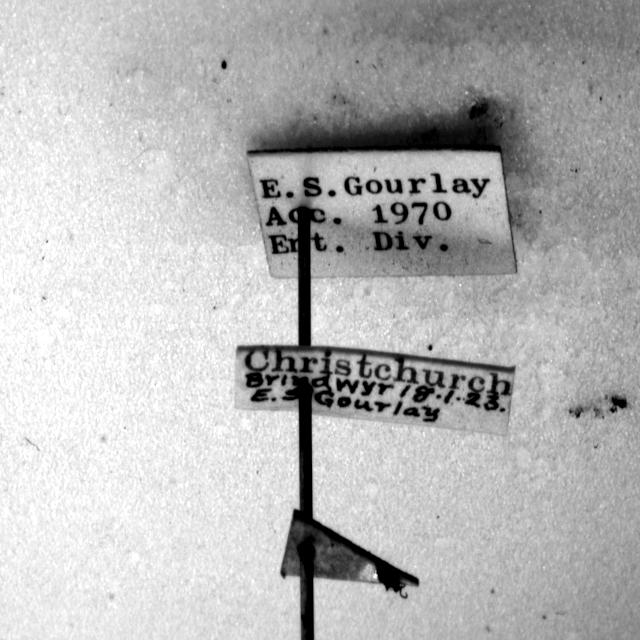mixed_label: (235, 345, 515, 435)
typed_label: (248, 148, 516, 278)
